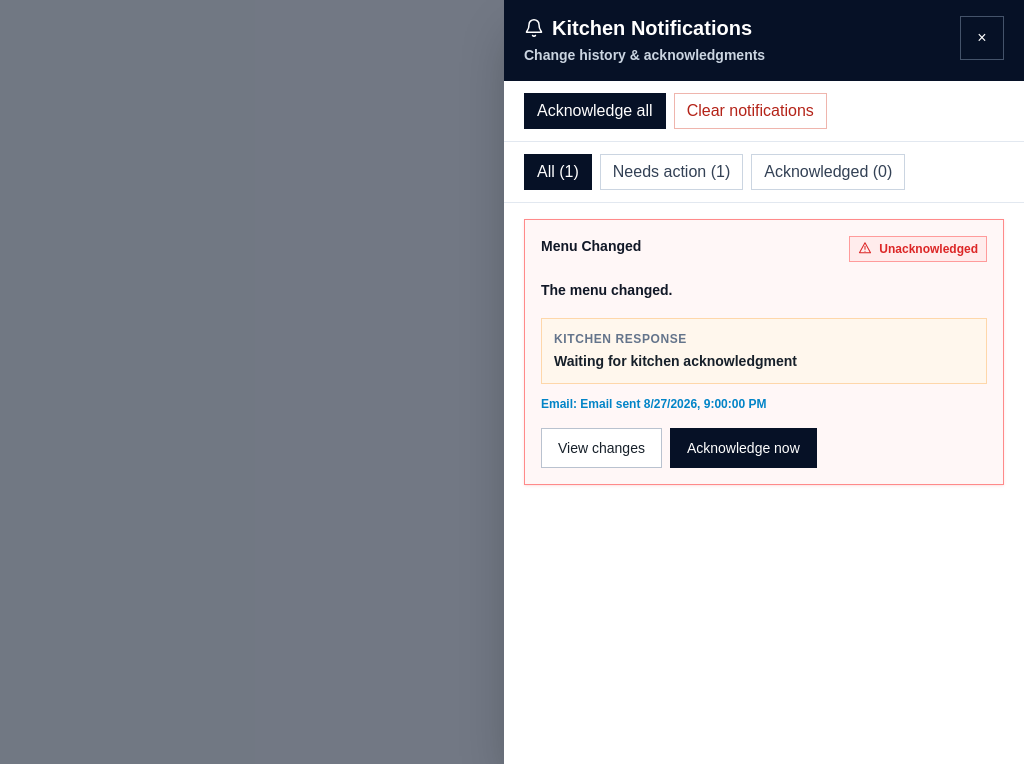
Scenario: KitchenNotificationsDrawer › keeps the supervisor's ledger behind View changes
This screenshot has width=1024, height=764.
Expected: the text "Roast chicken" is not shown
Click the button "View changes": (601, 448) x1=541 y1=428 x2=662 y2=468
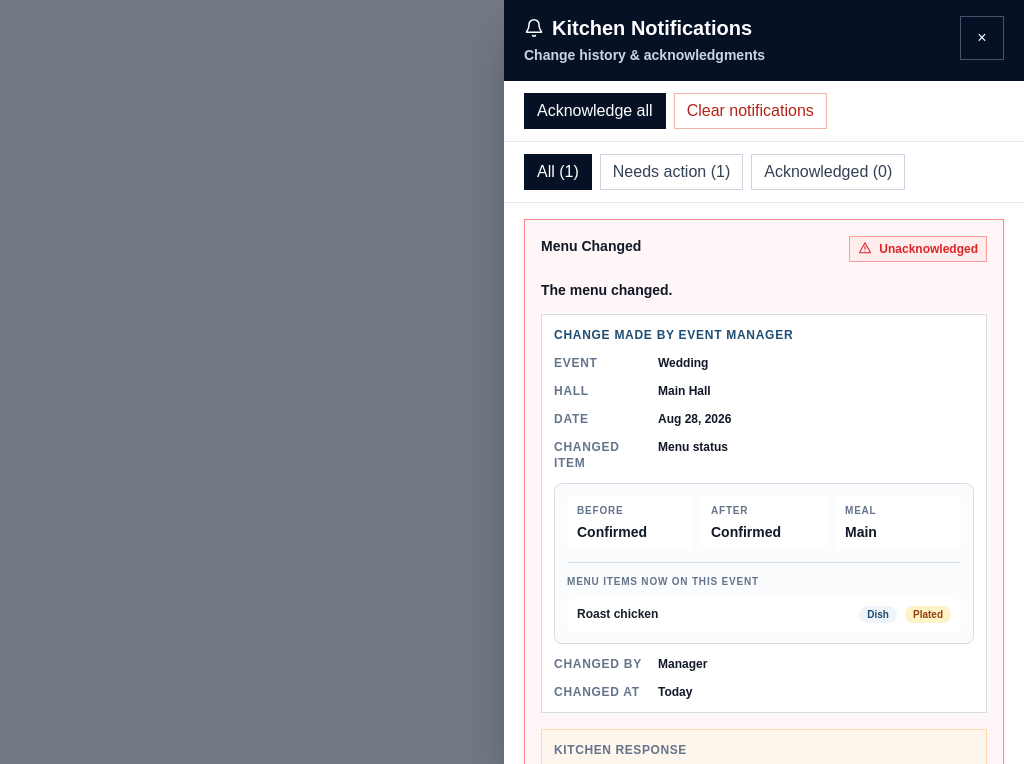
Result: the text "Roast chicken" is shown at x1=577 y1=607 x2=658 y2=621
Result: the text "Hall" is shown at x1=554 y1=384 x2=589 y2=398
